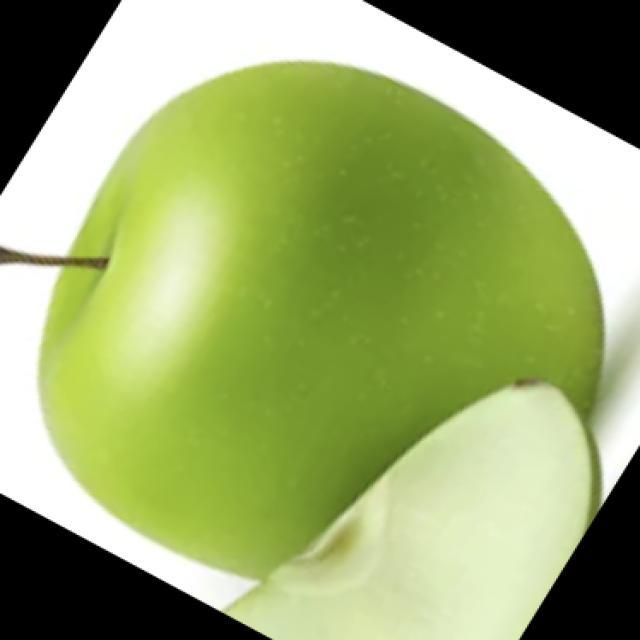Apple: (33, 57, 606, 584), (227, 376, 600, 640)
